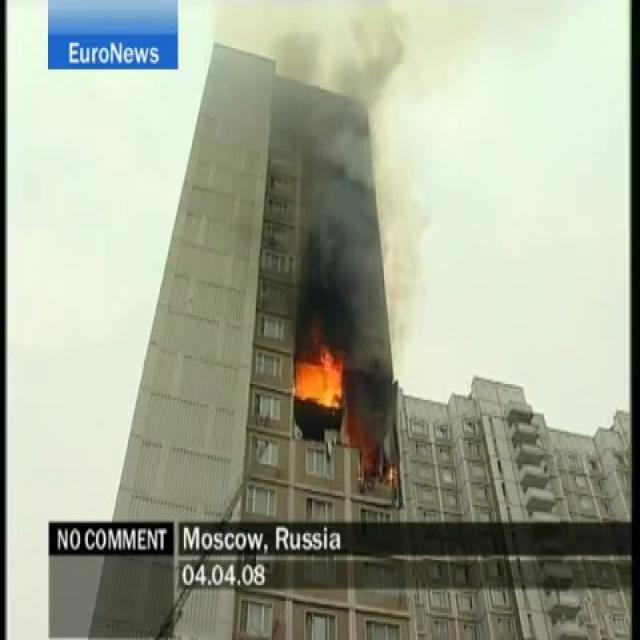fire: (293, 339, 348, 409)
